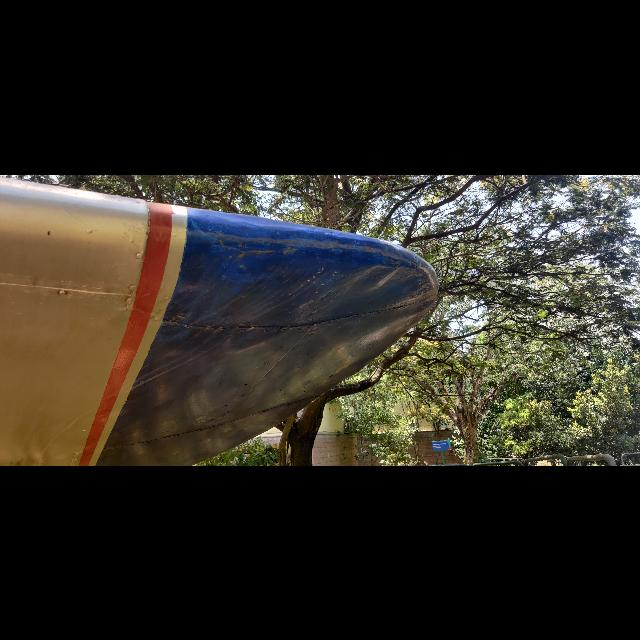dent: (356, 254, 416, 312), (226, 243, 274, 294)
